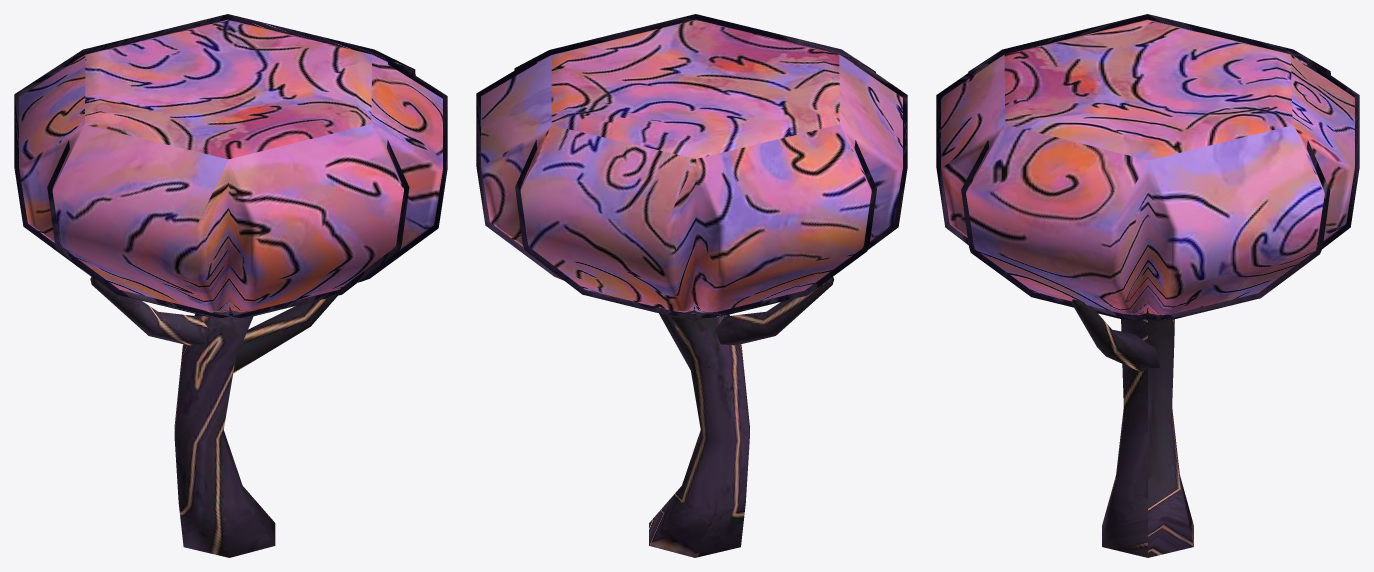
File: pm-tree-03.glb
The picture shows the model from 3 angles, left to right: view 1: azimuth 30°, elevation 25°; view 2: azimuth 150°, elevation 25°; view 3: azimuth 270°, elevation 25°; orthographic projection.
Visible parts, largest first — view 1: Tree_03_Art; view 2: Tree_03_Art; view 3: Tree_03_Art.
Boxes of the visible parts, box(x1,y1,x2,y2) form: Tree_03_Art: box(14, 14, 447, 557); Tree_03_Art: box(476, 14, 907, 557); Tree_03_Art: box(936, 14, 1359, 557).
Size of what is drawn, in the model's own units: 2.52 by 2.76 by 2.31.
Materials: 3 (3 with a texture image).
